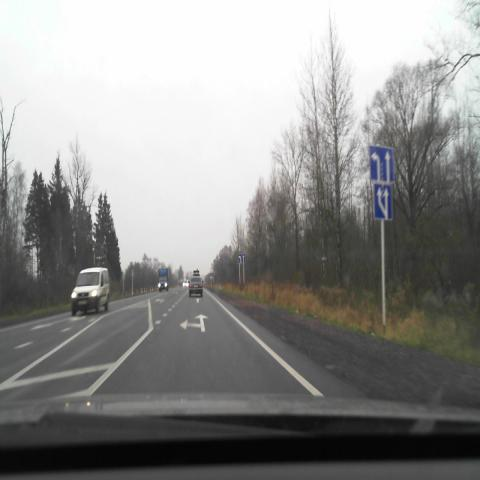5_15_3: (374, 184, 394, 219)
